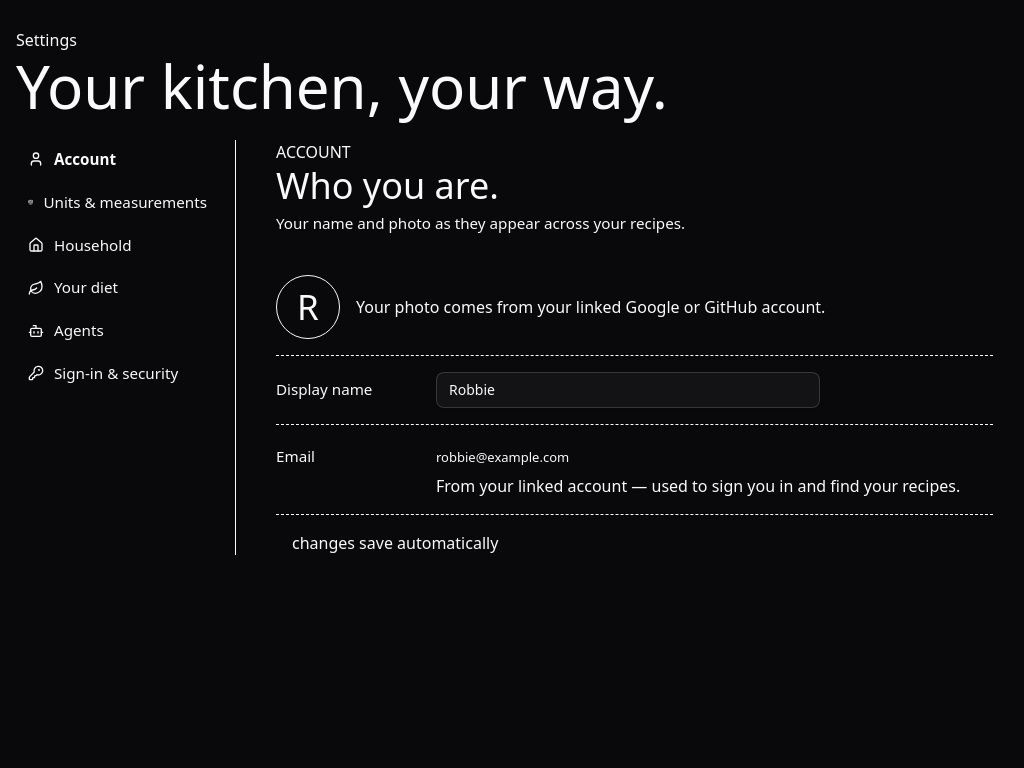
it: SettingsView › saves a custom units ladder from the units settings panel
This screenshot has width=1024, height=768.
Click the button "Units & measurements". click: (118, 202)
box: [16,183,219,222]
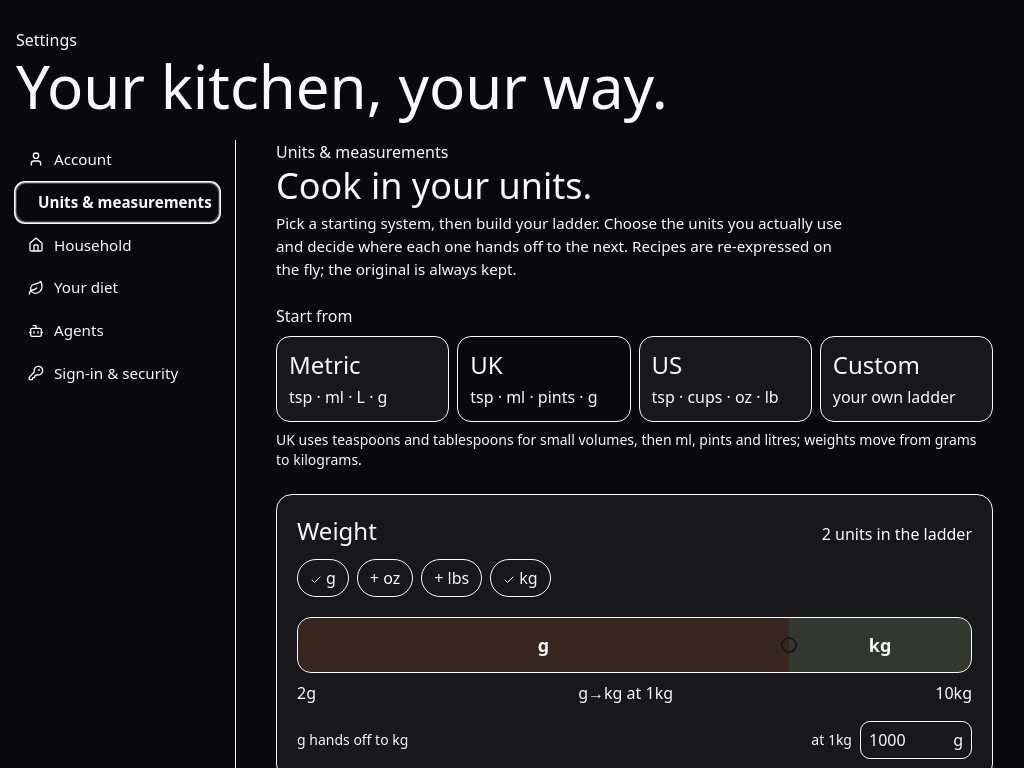
Click the button "US tsp · cups · oz · lb". click: (725, 379)
box: [638,336,812,422]
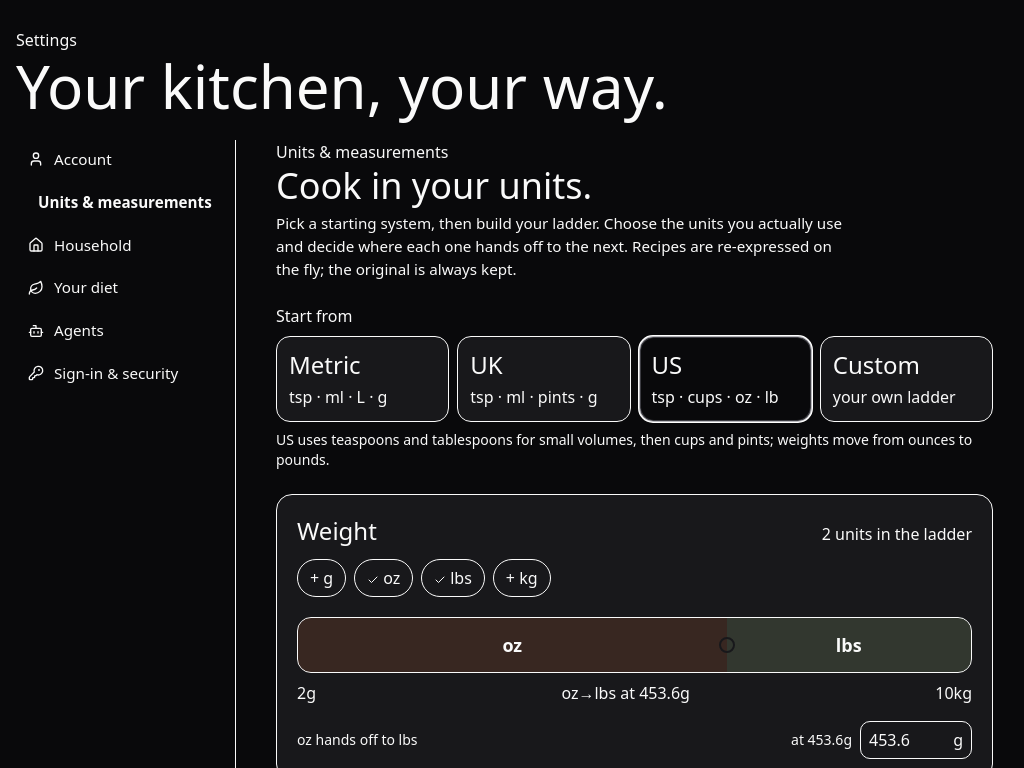
Now the text "US uses teaspoons and tablespoons" is shown, box [276,430,972,469]
Replace the text in the number field named "oz upper threshold in grams" with "500". click: (911, 740)
box: [869,722,953,758]
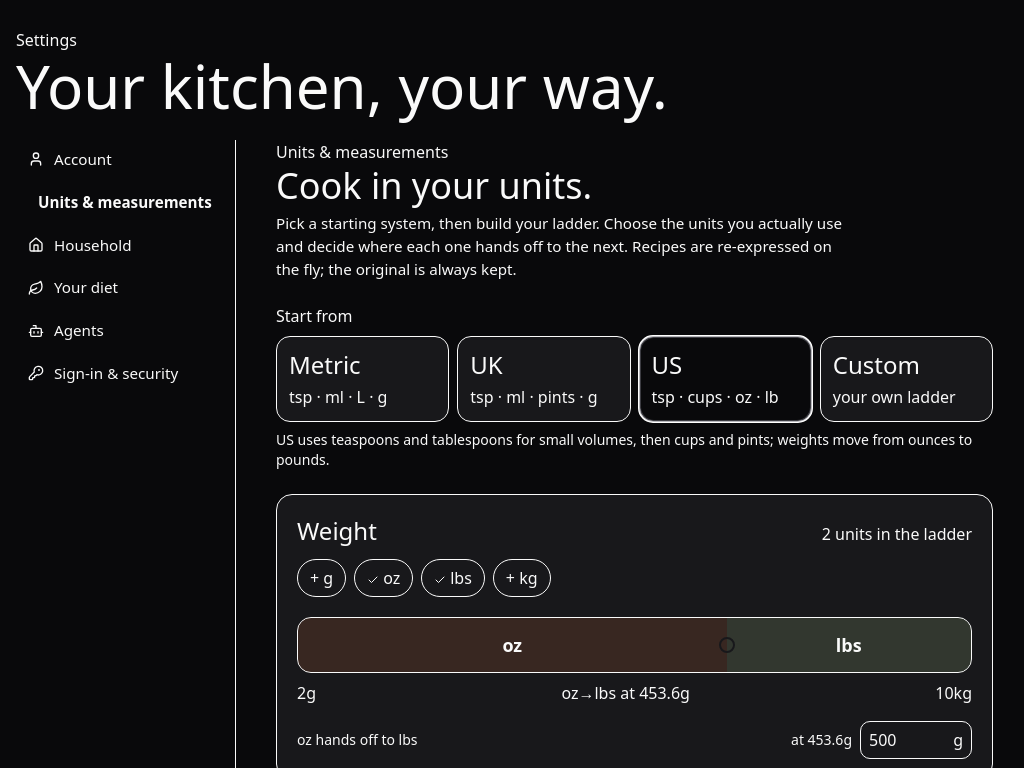
Leave the number field named "oz upper threshold in grams", box [869,722,953,758]
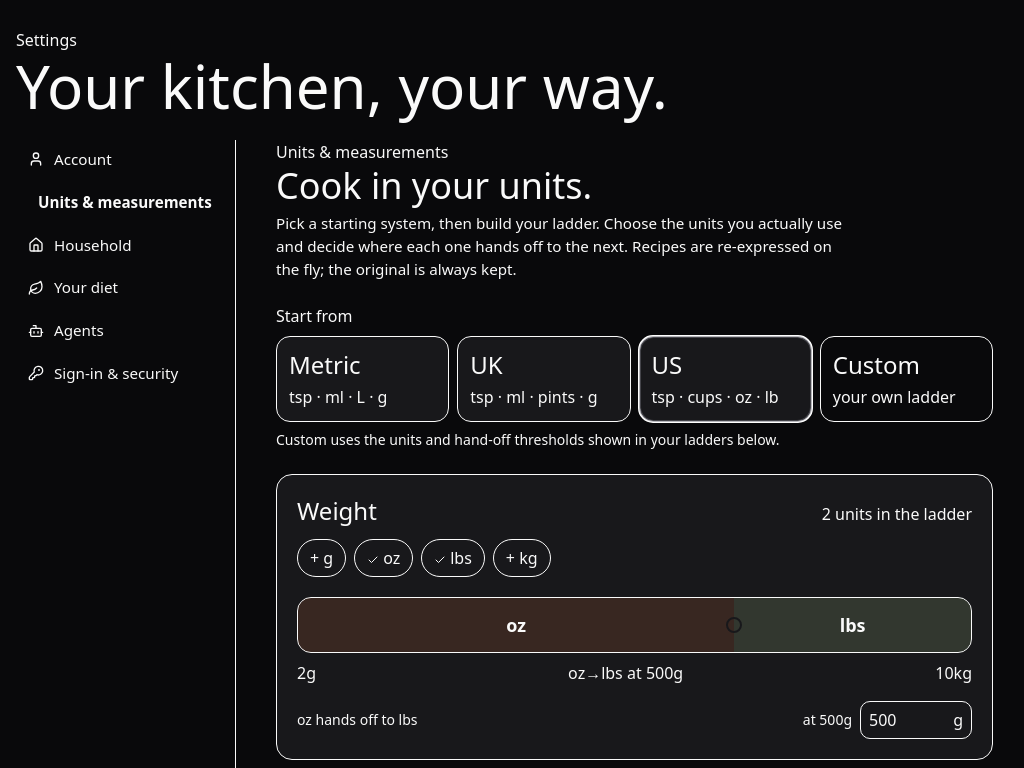
Now the text "Custom uses the units" is shown, box [276,430,780,449]
Click the button with aria-label "remove lbs". click: (453, 558)
box: [421,539,485,577]
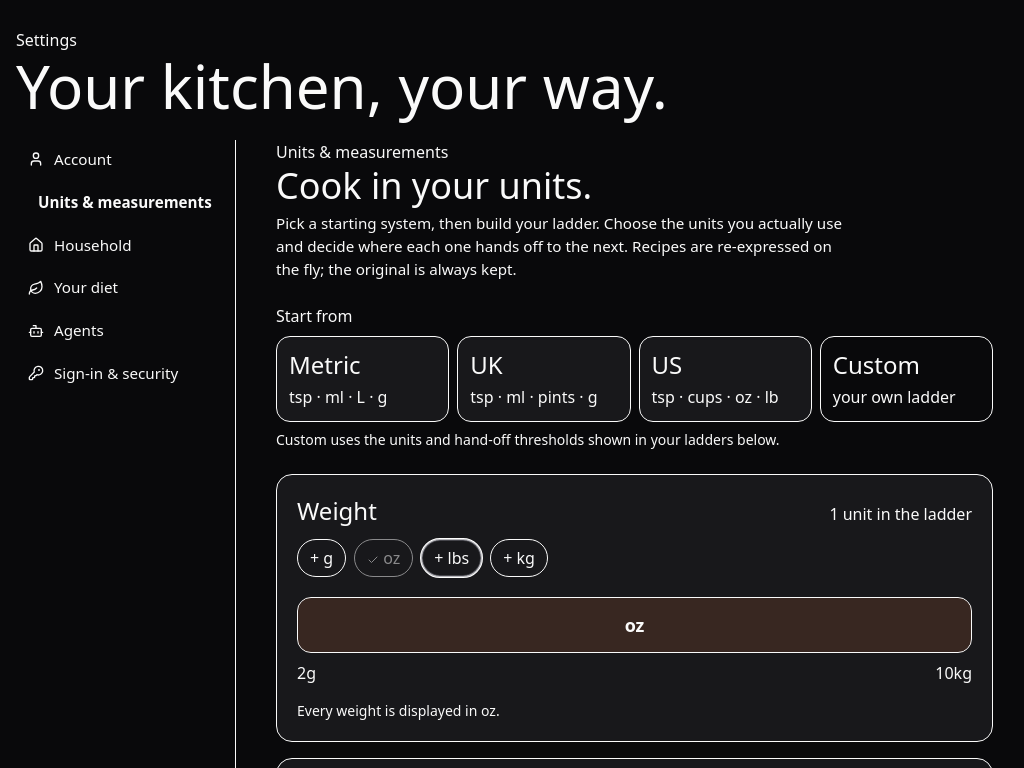
Now the button with aria-label "remove oz" is disabled, box [354,539,413,577]
